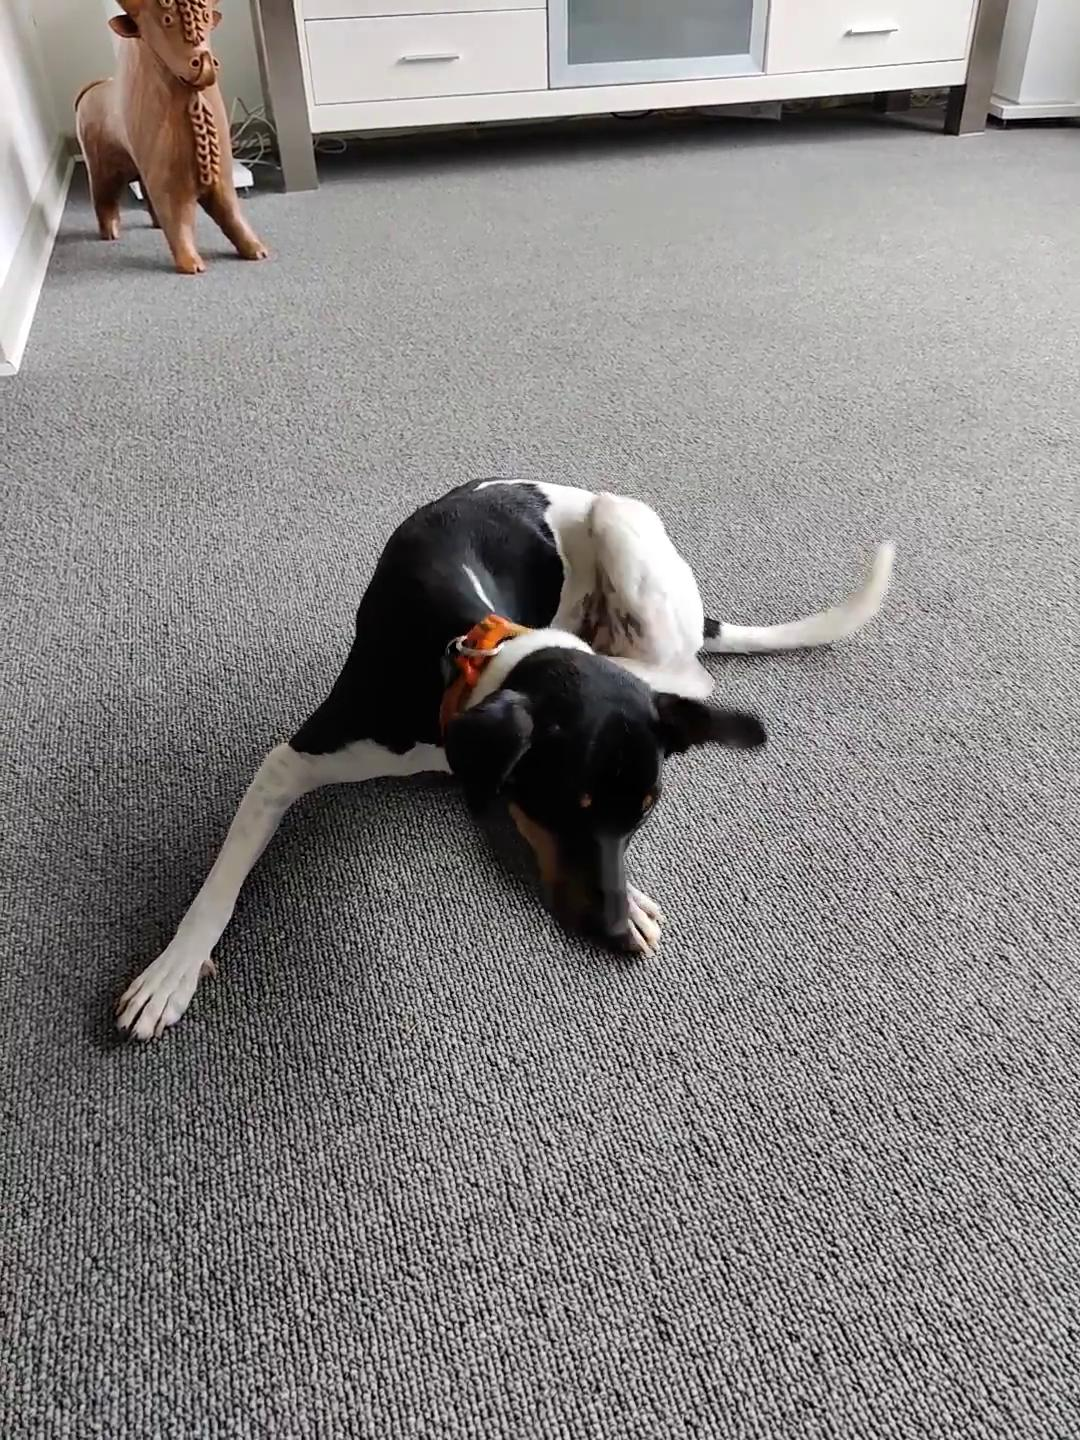Dog: (109, 473, 902, 1052)
